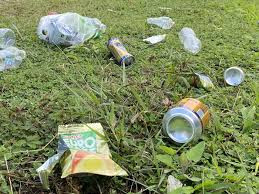metal: (160, 92, 215, 141), (106, 39, 131, 67), (222, 62, 248, 87)
plastic: (24, 118, 132, 185), (178, 20, 198, 58), (0, 48, 26, 73), (135, 16, 177, 28), (140, 31, 167, 45), (0, 28, 16, 49)
plastic bag: (36, 8, 104, 49)
trash: (187, 71, 218, 97)
